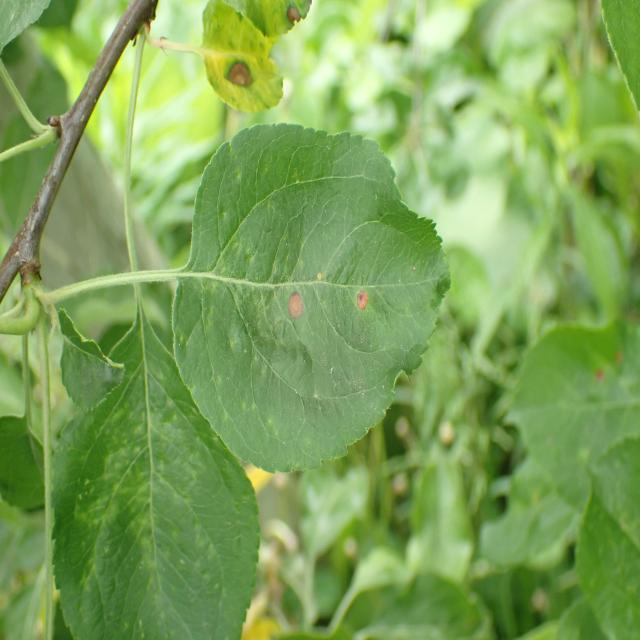Black Rot: (218, 40, 261, 98), (342, 276, 382, 338), (282, 279, 310, 329), (281, 0, 313, 28)
